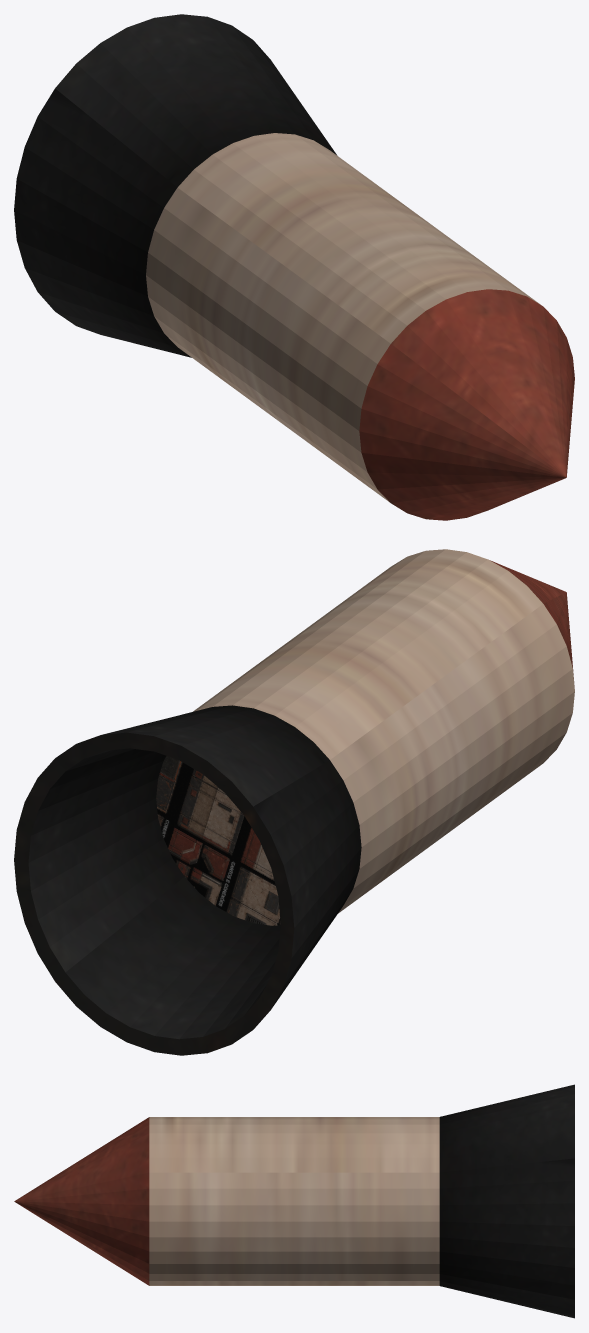
The model's file is rocket.dae.
3 views of the same model, one above another, from view 1: azimuth 30°, elevation 25°; view 2: azimuth 150°, elevation 25°; view 3: azimuth 270°, elevation 25° (orthographic). The views are drawn at different scales.
Visible parts, largest first — view 1: rocket; view 2: rocket; view 3: rocket.
Boxes of the visible parts, x1,y1,x2,y2 form: rocket: (14, 14, 574, 520); rocket: (14, 549, 574, 1055); rocket: (14, 1084, 574, 1318).
Bounding box in the file's own units: 1.82 × 4.64 × 1.96.
